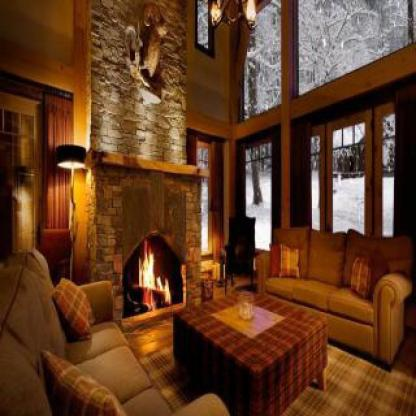fire: (134, 246, 174, 309)
